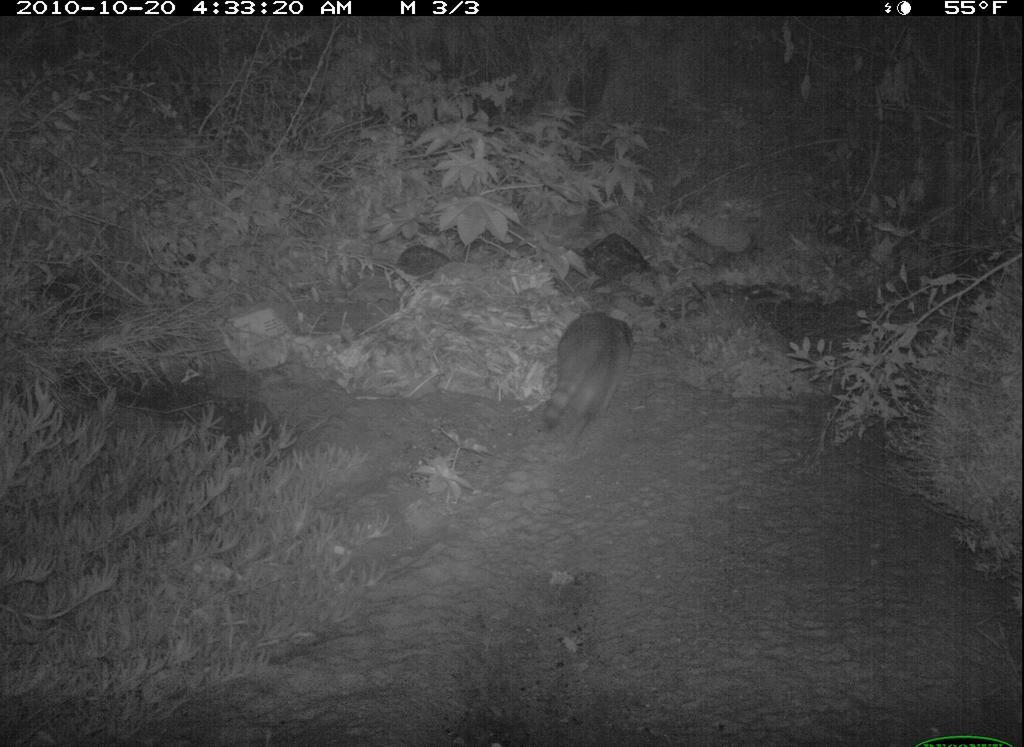raccoon: (541, 309, 635, 452)
